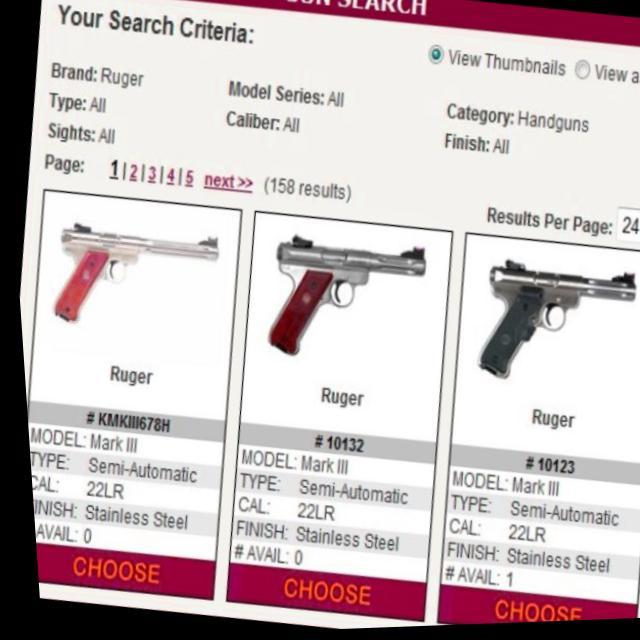weapon: (256, 228, 430, 376), (464, 255, 638, 400), (42, 214, 222, 342)
